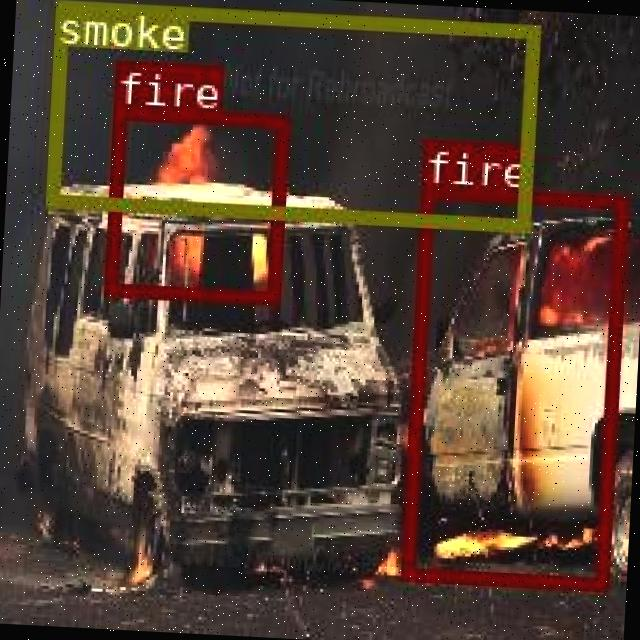fire: (400, 182, 627, 588), (102, 106, 286, 302)
smoke: (43, 0, 537, 229)
